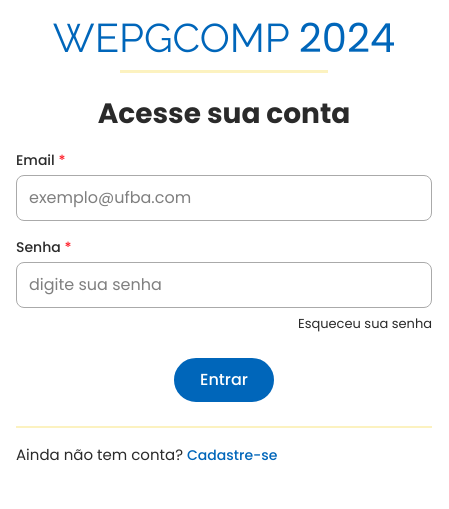
Test: LoginPage › shows API error on login failure
Type "user@test.com" into the field labelled "Email *". click: (224, 198)
box: x1=16 y1=175 x2=432 y2=221
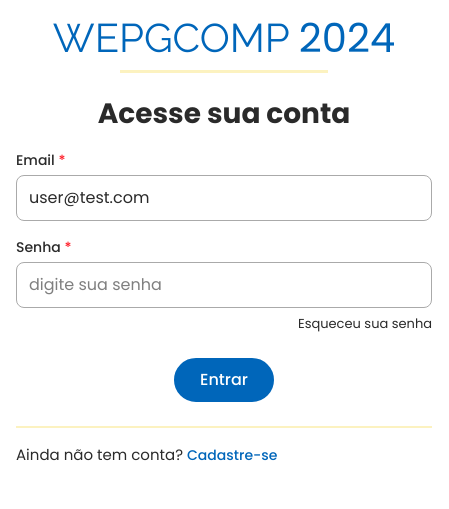
Type "Password1" into the password field labelled "Senha *". click: (224, 285)
box: x1=16 y1=262 x2=432 y2=308
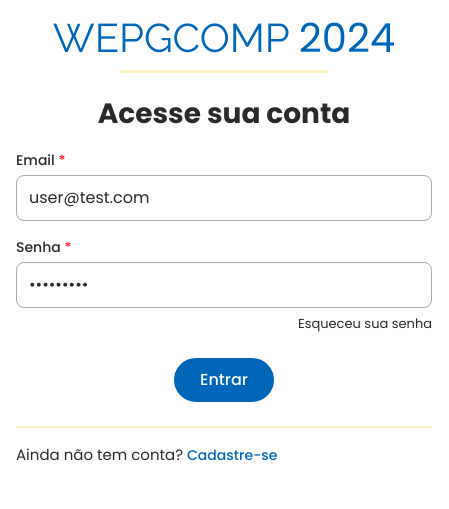
Click the button "Entrar". click: (224, 380)
box: x1=174 y1=358 x2=274 y2=402
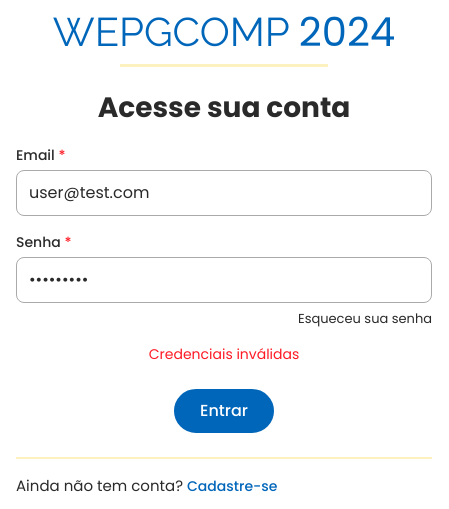
Check: the text "Credenciais inválidas" is shown, box x1=149 y1=344 x2=299 y2=364
